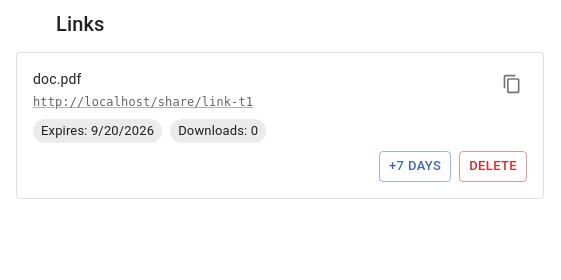
Test: SharingContent › links detail: copy, extend, delete controls visible and copy works
Expected: the text "doc.pdf" is shown, [33,71,82,87]
Expected: the button "+7 days" is shown, [379,151,451,182]
Click the 1st button at (512, 84), box [497,69,527,99]
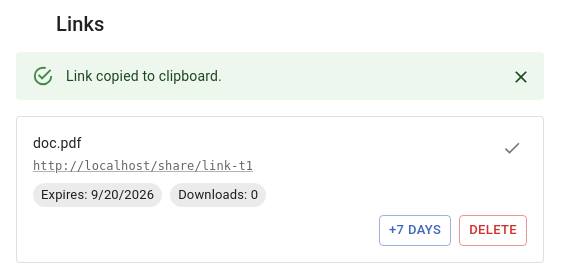
Result: the message reads "Link copied to clipboard." at [66,68,222,84]
